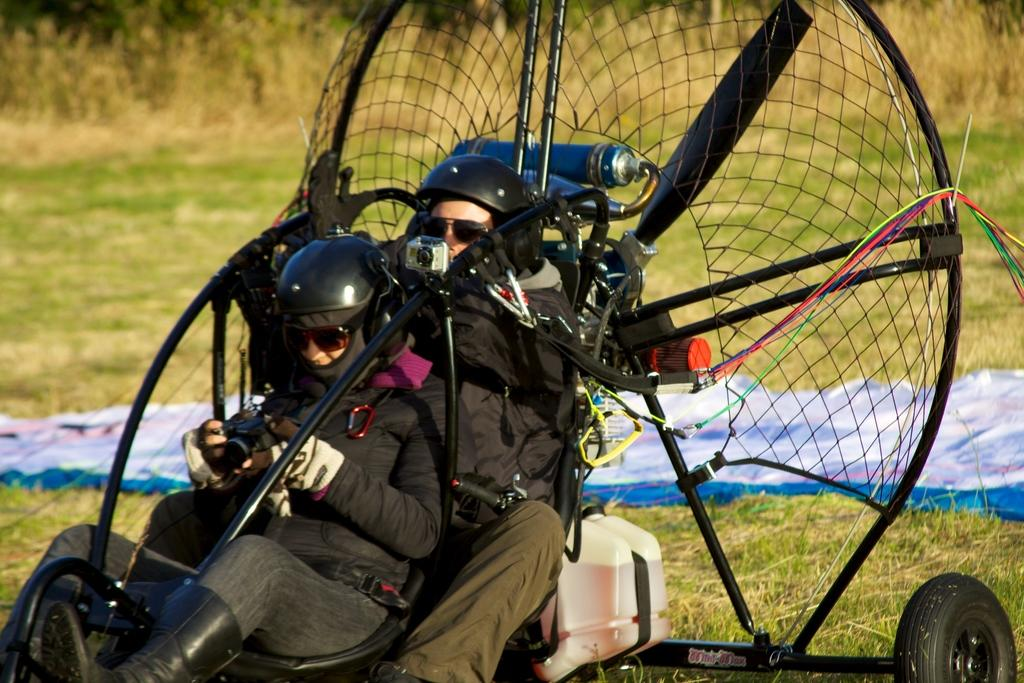helmet: (274, 232, 402, 377), (413, 153, 542, 284)
